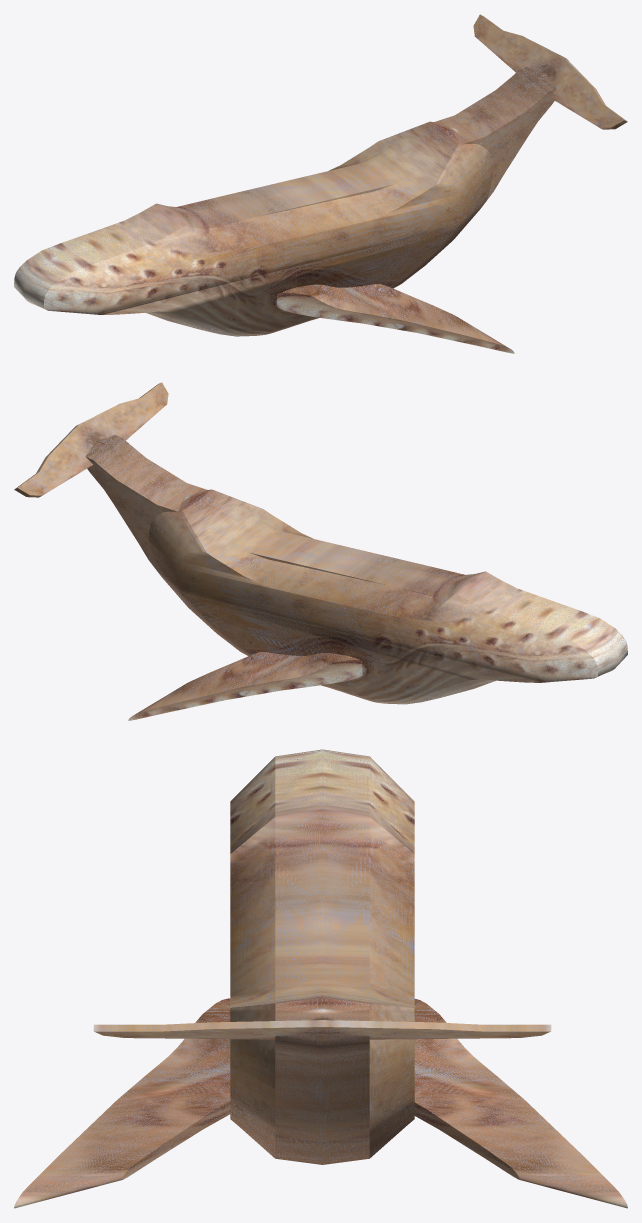
Rendered from whale2.dae.
3 renders of one model, top to bottom at view 1: azimuth 30°, elevation 25°; view 2: azimuth 150°, elevation 25°; view 3: azimuth 270°, elevation 25°, orthographic. The views are drawn at different scales.
Parts seen in each view (by area): view 1: group_2, group_3, group_4; view 2: group_2, group_1, group_4; view 3: group_2, group_3, group_1, group_4.
Boxes of the visible parts, <box> form: group_2: <box>14,67,556,336</box>; group_3: <box>277,284,514,353</box>; group_4: <box>473,14,627,129</box>; group_2: <box>85,435,627,704</box>; group_1: <box>128,651,362,720</box>; group_4: <box>14,382,168,497</box>; group_2: <box>230,749,414,1164</box>; group_3: <box>14,998,230,1208</box>; group_1: <box>414,999,627,1208</box>; group_4: <box>93,1020,551,1039</box>.
Size of the model in its own units: 34.18 by 21.17 by 11.64.
3 materials, 1 textured.
